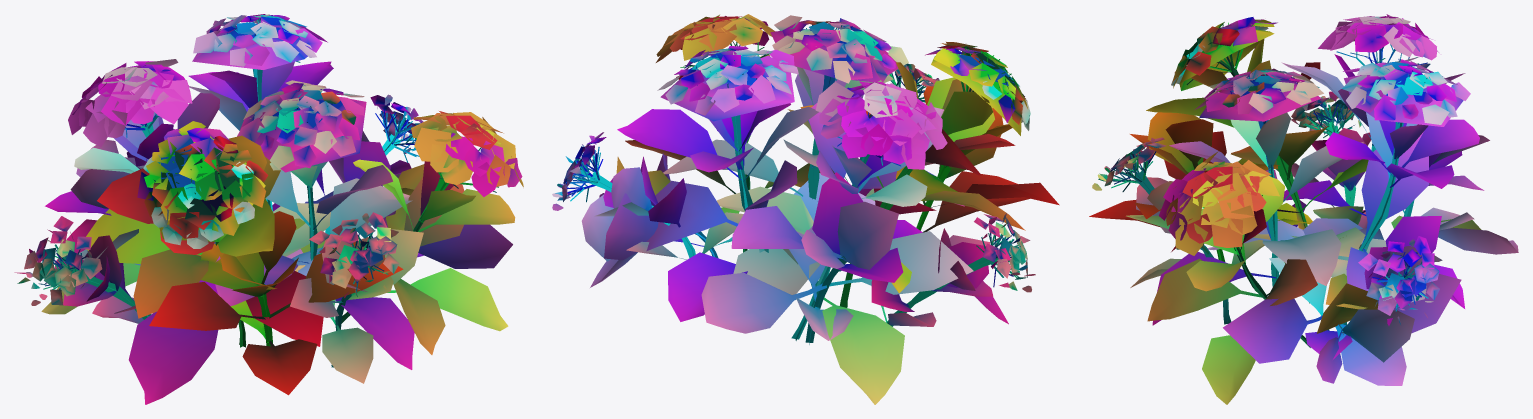
Rendered from Bigleaf_Hydrangea_vgztealha_Mid_vgztealha_VarH_LOD1.fbx.
3 views of the same model, side by side, from view 1: azimuth 30°, elevation 25°; view 2: azimuth 150°, elevation 25°; view 3: azimuth 270°, elevation 25° (orthographic). The views are drawn at different scales.
Parts seen in each view (by area): view 1: _j28r_VarH_LOD3; view 2: _j28r_VarH_LOD3; view 3: _j28r_VarH_LOD3.
Boxes of the visible parts, box(x1,y1,x2,y2) form: _j28r_VarH_LOD3: box(14, 14, 523, 404); _j28r_VarH_LOD3: box(552, 14, 1059, 404); _j28r_VarH_LOD3: box(1089, 14, 1518, 404).
Size of the model in its own units: 54.01 by 34.16 by 48.1.
